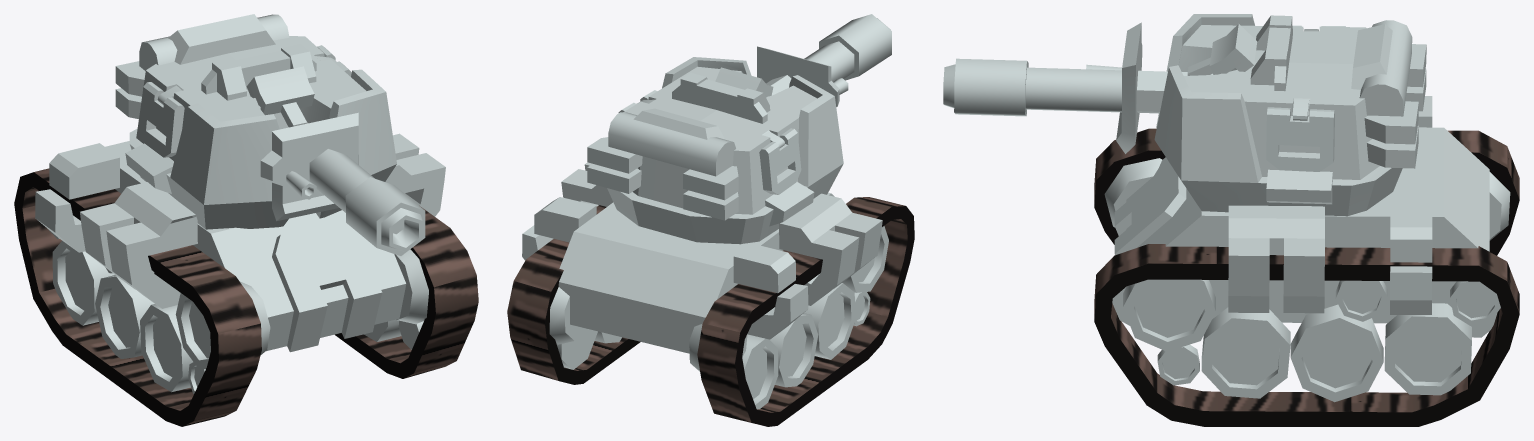
File: TankStylised.fbx
3 views of the same model, side by side, from view 1: azimuth 30°, elevation 25°; view 2: azimuth 150°, elevation 25°; view 3: azimuth 270°, elevation 25° (orthographic). The views are drawn at different scales.
Parts seen in each view (by area): view 1: Body, Turret, RightTrack, LeftTrack; view 2: Body, Turret, RightTrack, LeftTrack; view 3: Body, Turret, LeftTrack, RightTrack.
Part boxes in pixels (x1,y1,x2,y2): Body: (35,133,445,393); Turret: (115,14,425,255); RightTrack: (14,168,261,426); LeftTrack: (335,205,478,378); Body: (522,162,888,409); Turret: (587,14,891,244); RightTrack: (697,197,914,426); LeftTrack: (507,205,640,384); Body: (1104,96,1510,402); Turret: (943,14,1426,216); LeftTrack: (1094,244,1519,426); RightTrack: (1094,128,1519,255).
Size of the model in its own units: 321 by 299 by 482.
Materials: 2 (1 with a texture image).
